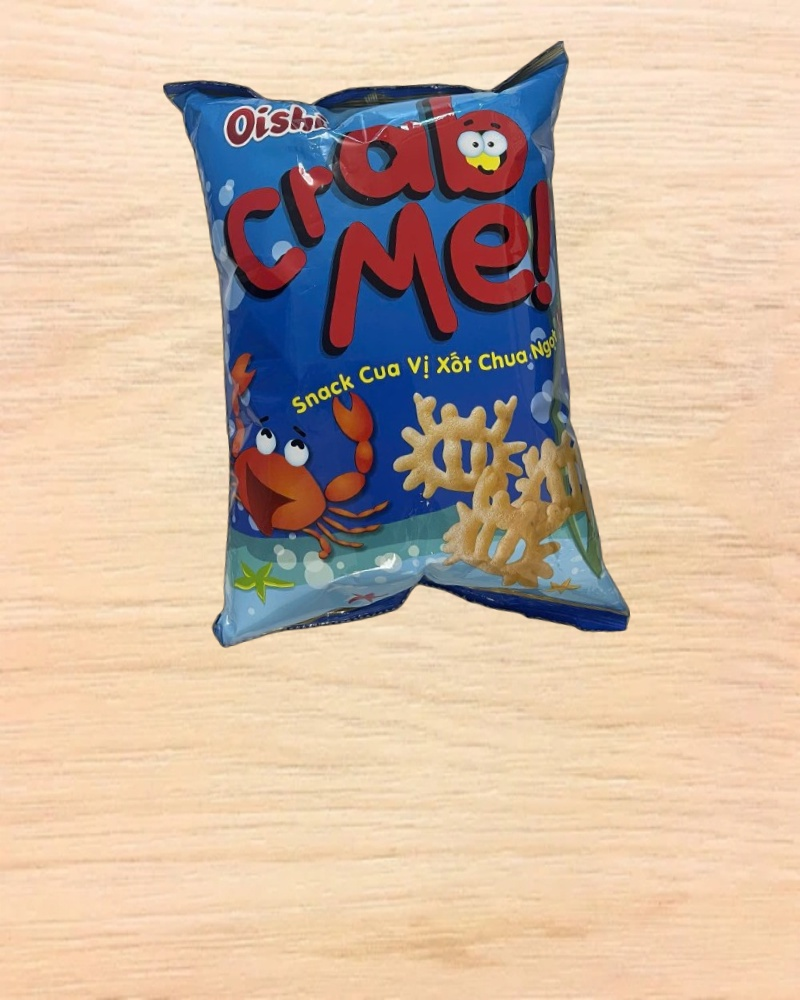Snack chay: (163, 40, 632, 668)
